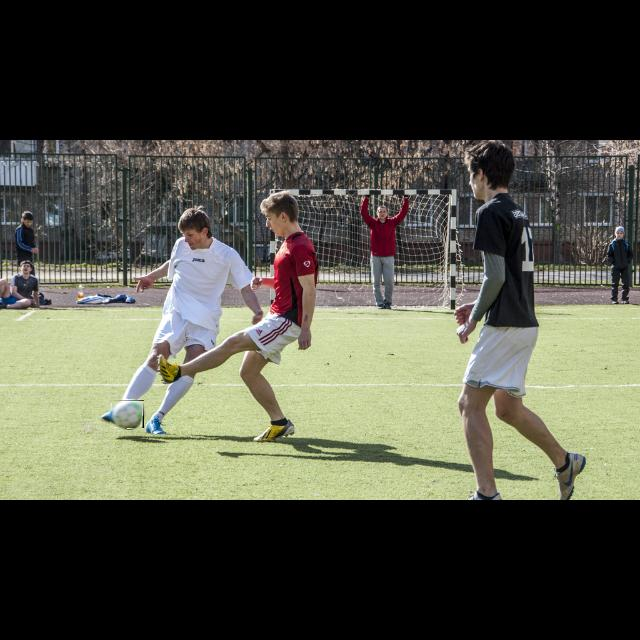Football: (110, 400, 144, 428)
